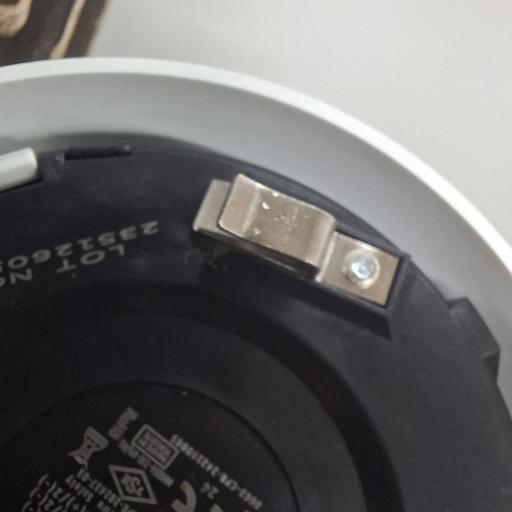yayli: (192, 172, 403, 307)
